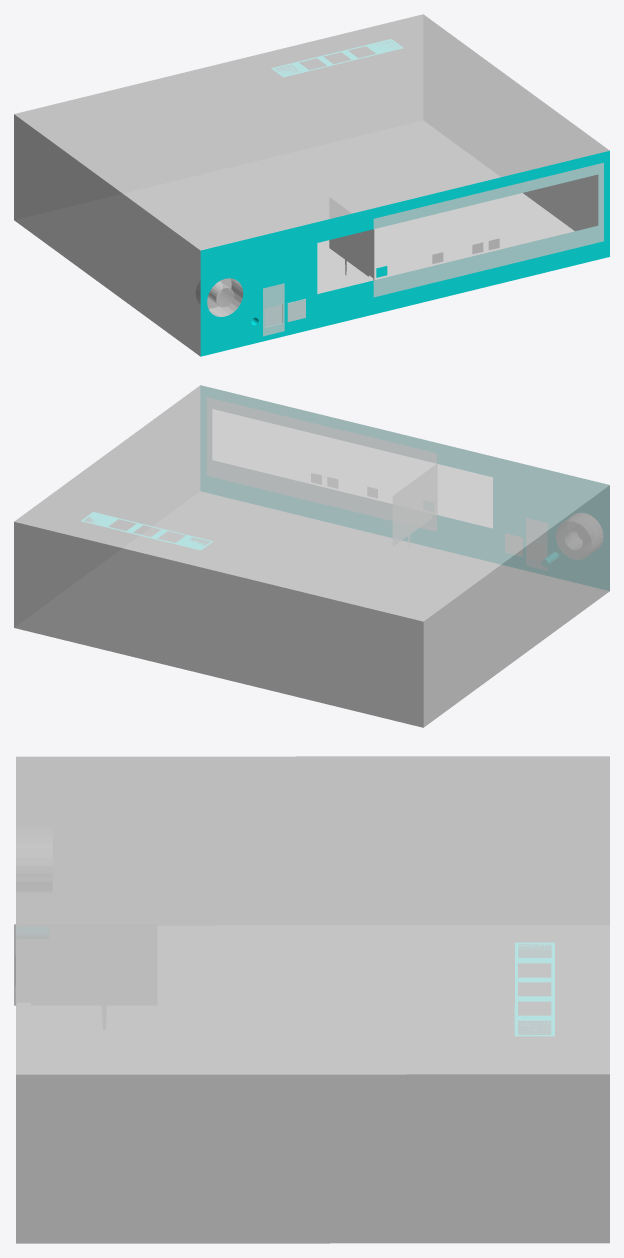
The model's file is routerboard.glb.
3 renders of one model, top to bottom at view 1: azimuth 30°, elevation 25°; view 2: azimuth 150°, elevation 25°; view 3: azimuth 270°, elevation 25°, orthographic. The views are drawn at different scales.
Parts seen in each view (by area): view 1: Node42, Node106, Node105, Node84, Node108, Node109, Node96, Node1, Node32, Node2, Node86, Node31; view 2: Node106, Node42, Node105, Node108, Node109, Node84, Node96, Node1, Node32, Node2, Node86, Node83 (+1 smaller); view 3: Node106, Node42, Node109, Node108, Node96, Node1, Node2, Node86.
Boxes of the visible parts, <box> form: Node42: <box>49,29,575,235</box>; Node106: <box>15,121,574,354</box>; Node105: <box>14,15,422,219</box>; Node84: <box>200,151,609,356</box>; Node108: <box>14,114,200,356</box>; Node109: <box>424,16,608,231</box>; Node96: <box>31,21,592,243</box>; Node1: <box>14,14,609,250</box>; Node32: <box>373,162,603,297</box>; Node2: <box>329,198,373,277</box>; Node86: <box>271,39,403,77</box>; Node31: <box>263,283,284,336</box>; Node106: <box>15,492,608,726</box>; Node42: <box>48,399,574,606</box>; Node105: <box>14,522,423,727</box>; Node108: <box>423,485,609,727</box>; Node109: <box>14,386,199,626</box>; Node84: <box>201,386,609,590</box>; Node96: <box>31,392,592,614</box>; Node1: <box>14,385,609,621</box>; Node32: <box>207,398,436,531</box>; Node2: <box>393,465,436,545</box>; Node86: <box>81,512,212,550</box>; Node83: <box>556,522,591,559</box>; Node106: <box>16,926,609,1242</box>; Node42: <box>56,773,569,1057</box>; Node109: <box>16,1074,609,1243</box>; Node108: <box>16,757,609,924</box>; Node96: <box>36,765,589,1065</box>; Node1: <box>16,756,609,1074</box>; Node2: <box>16,925,156,1028</box>; Node86: <box>514,942,554,1036</box>.
Size of the model in its own units: 4.45 by 1.1 by 3.52.
